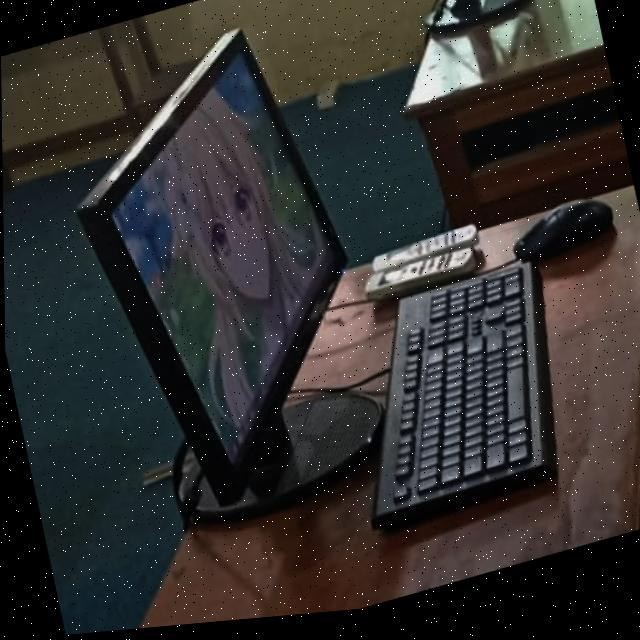onscreen: (78, 34, 345, 507)
